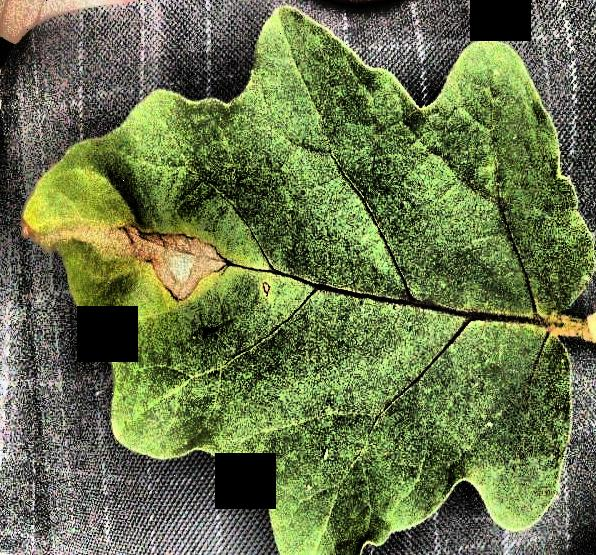Critical Stress: (1, 1, 596, 555)
